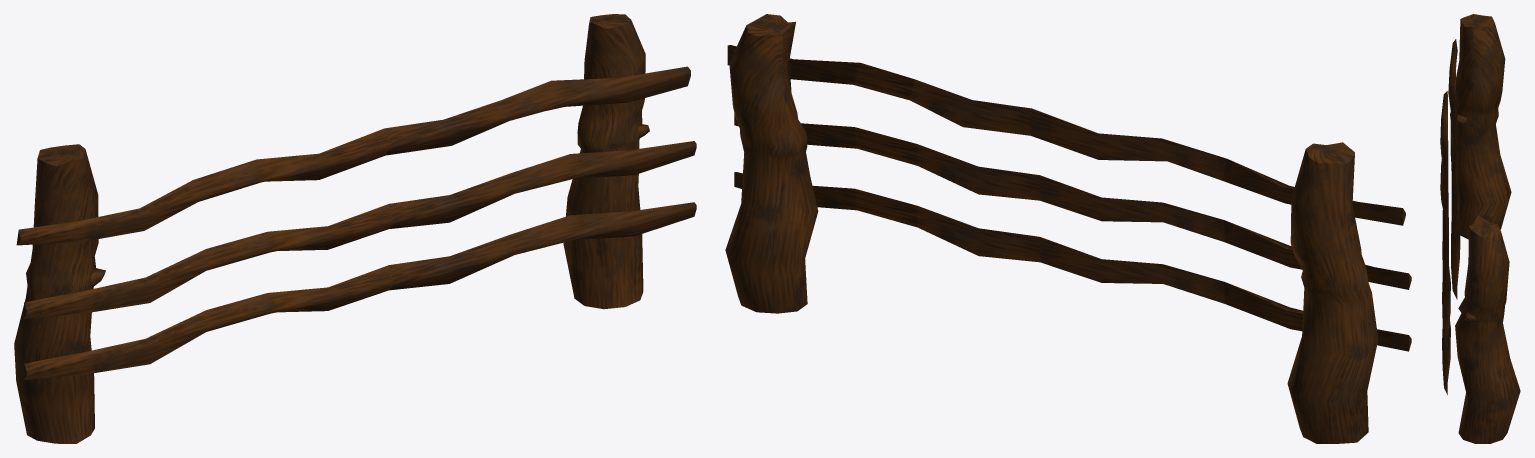
Rendered from CercaMadeira.fbx.
3 views of the same model, side by side, from view 1: azimuth 30°, elevation 25°; view 2: azimuth 150°, elevation 25°; view 3: azimuth 270°, elevation 25° (orthographic). The views are drawn at different scales.
Parts seen in each view (by area): view 1: WoodenFance; view 2: WoodenFance; view 3: WoodenFance.
Boxes of the visible parts, x1,y1,x2,y2 form: WoodenFance: [14, 14, 696, 443]; WoodenFance: [725, 14, 1411, 443]; WoodenFance: [1440, 14, 1520, 443].
Bounding box in the file's own units: 500 × 200 × 68.72.
